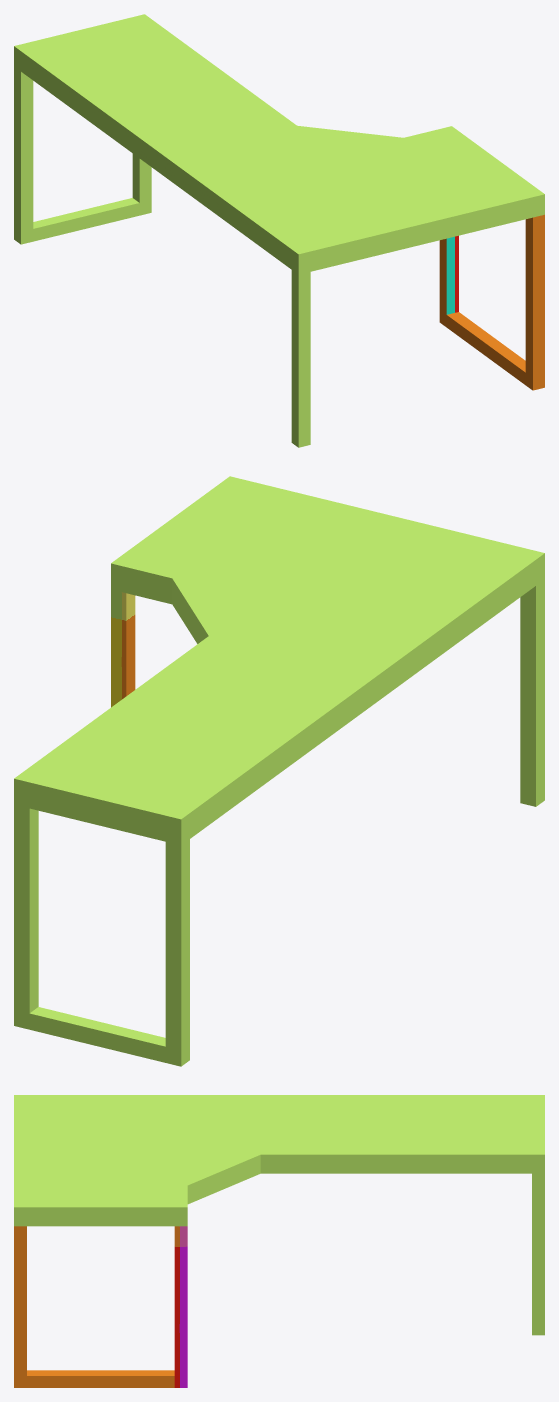
File: SM_Table.fbx
3 views of the same model, one above another, from view 1: azimuth 30°, elevation 25°; view 2: azimuth 150°, elevation 25°; view 3: azimuth 270°, elevation 25° (orthographic). The views are drawn at different scales.
Visible parts, largest first — view 1: SM_Table; view 2: SM_Table; view 3: SM_Table.
Boxes of the visible parts, bbox=[...] form: SM_Table: bbox=[14, 14, 544, 447]; SM_Table: bbox=[14, 476, 544, 1066]; SM_Table: bbox=[14, 1095, 544, 1387].
Size of the model in its own units: 100 by 75 by 200.
